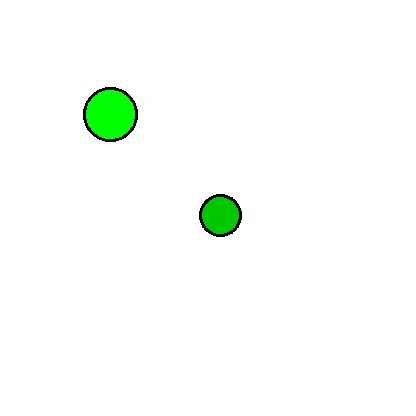circle: (50, 88, 170, 140), (183, 195, 257, 236)
